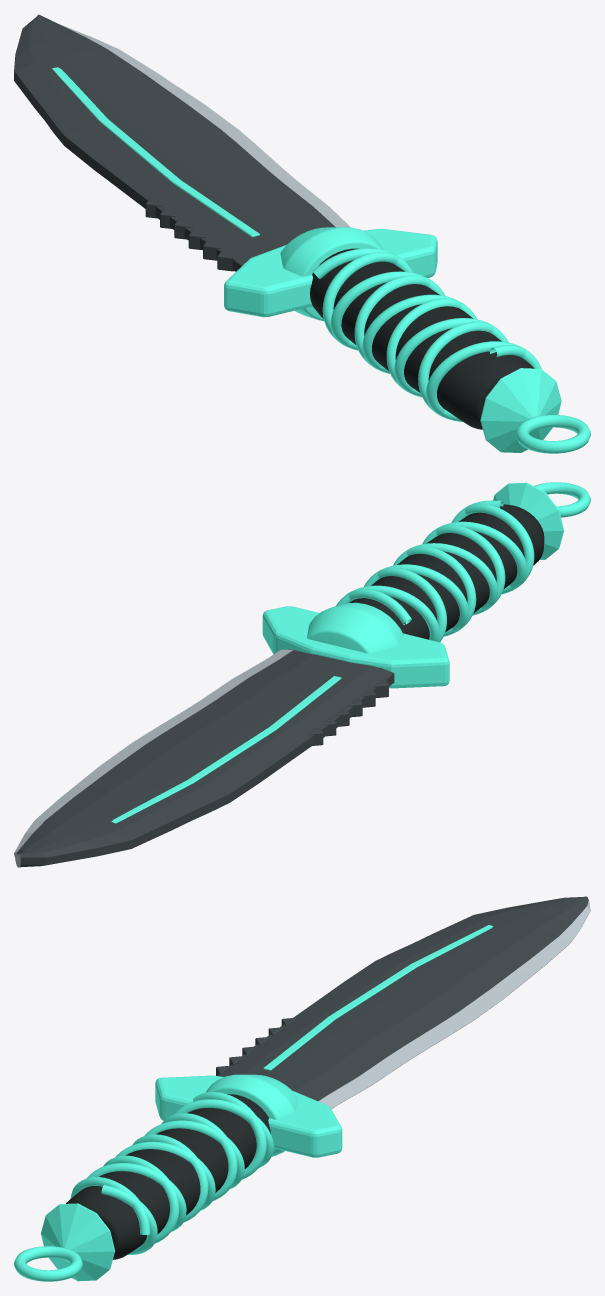
File: tactical_knife.glb
3 views of the same model, one above another, from view 1: azimuth 30°, elevation 25°; view 2: azimuth 150°, elevation 25°; view 3: azimuth 330°, elevation 25° (orthographic). The views are drawn at different scales.
Visible parts, largest first — view 1: TacticalKnifeBlade, KnifeGripCore, KnifeGuard, KnifeWrapA, KnifeWrapB, KnifePommel, KnifeFingerCollar, KnifeFullerInlay, KnifeLanyardRing; view 2: TacticalKnifeBlade, KnifeGripCore, KnifeGuard, KnifeWrapA, KnifeWrapB, KnifeFingerCollar, KnifePommel, KnifeFullerInlay, KnifeLanyardRing; view 3: TacticalKnifeBlade, KnifeGripCore, KnifeGuard, KnifeWrapB, KnifeWrapA, KnifePommel, KnifeFingerCollar, KnifeFullerInlay, KnifeLanyardRing.
Boxes of the visible parts, <box> form: TacticalKnifeBlade: <box>14,14,350,271</box>; KnifeGripCore: <box>310,248,534,429</box>; KnifeGuard: <box>224,229,437,317</box>; KnifeWrapA: <box>313,248,541,415</box>; KnifeWrapB: <box>322,252,525,421</box>; KnifePommel: <box>480,368,561,452</box>; KnifeFingerCollar: <box>280,227,382,321</box>; KnifeFullerInlay: <box>52,67,259,237</box>; KnifeLanyardRing: <box>515,415,590,453</box>; TacticalKnifeBlade: <box>14,649,394,867</box>; KnifeGripCore: <box>349,504,544,639</box>; KnifeGuard: <box>262,606,449,688</box>; KnifeWrapA: <box>346,503,534,642</box>; KnifeWrapB: <box>336,500,527,641</box>; KnifeFingerCollar: <box>307,602,403,653</box>; KnifePommel: <box>493,482,563,559</box>; KnifeFullerInlay: <box>111,676,341,823</box>; KnifeLanyardRing: <box>534,482,590,517</box>; TacticalKnifeBlade: <box>218,896,590,1108</box>; KnifeGripCore: <box>66,1094,270,1259</box>; KnifeGuard: <box>155,1075,342,1157</box>; KnifeWrapB: <box>87,1099,273,1254</box>; KnifeWrapA: <box>70,1092,266,1243</box>; KnifePommel: <box>41,1203,115,1281</box>; KnifeFingerCollar: <box>206,1074,297,1156</box>; KnifeFullerInlay: <box>263,925,493,1070</box>; KnifeLanyardRing: <box>14,1246,82,1281</box>.
Bounding box in the file's own units: 0.1001 × 0.0397 × 0.4768.
